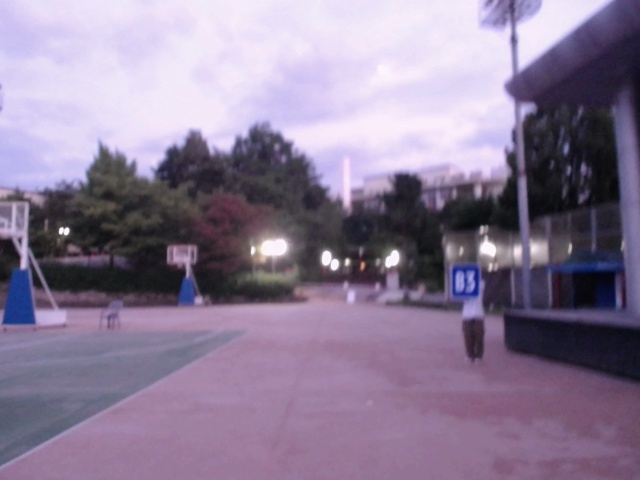delivery_b3: (449, 261, 480, 298)
